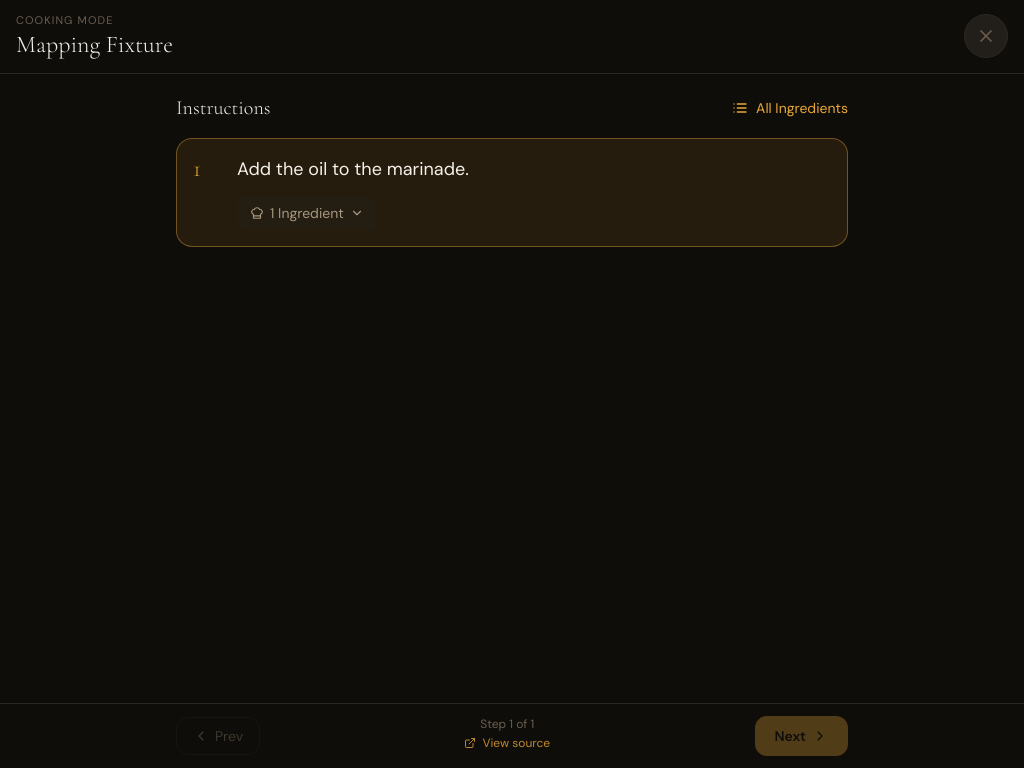
Cooking Mode mapping cutover › does not let a stale async resolution overwrite newer effective content
This screenshot has width=1024, height=768.
What coordinates should you click on to do the following:
click the button "1 Ingredient"
I would click on:
 (307, 213)
Its box is [237,196,377,230].
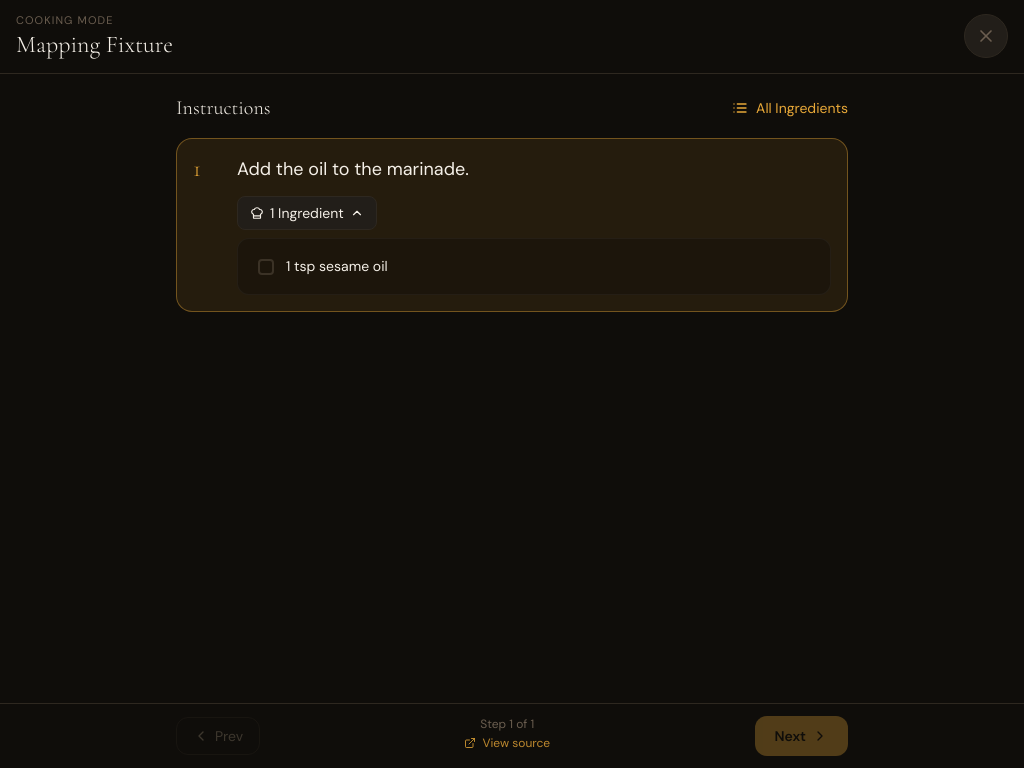
Expected: the button "1 tsp sesame oil" is shown, [250,251,818,282]
